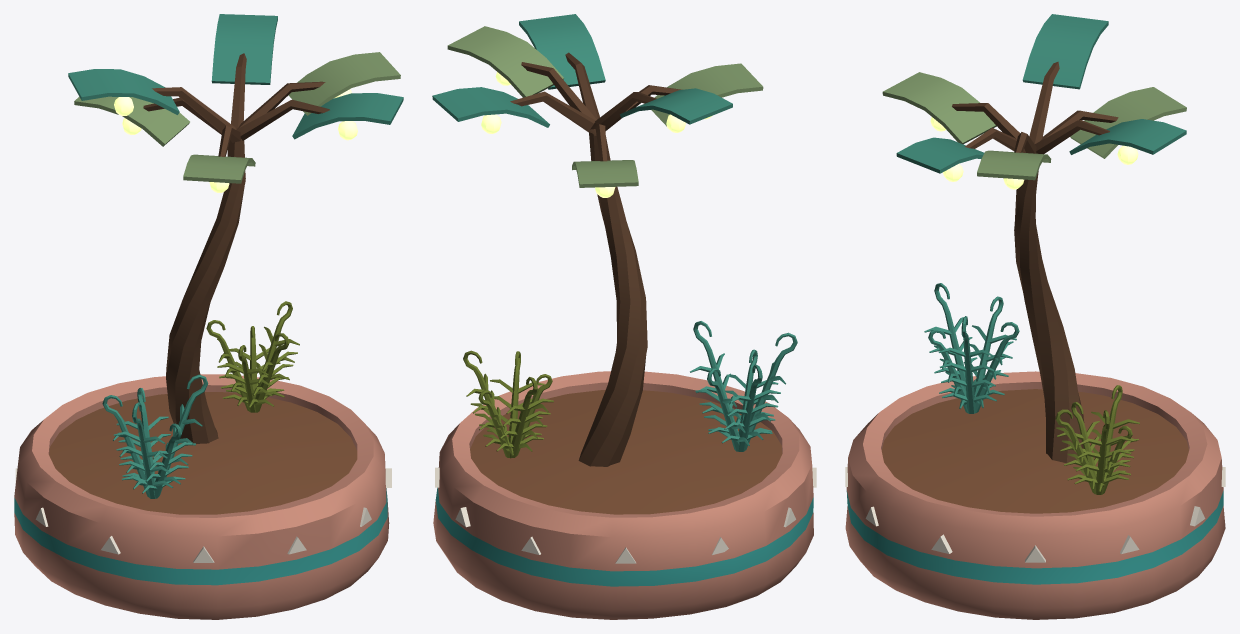
File: deco_planter_bed_round.fbx
The picture shows the model from 3 angles, left to right: view 1: azimuth 30°, elevation 25°; view 2: azimuth 150°, elevation 25°; view 3: azimuth 270°, elevation 25°; orthographic projection.
Visible parts, largest first — view 1: PlanterBed_Round_Bed, PlanterBed_Round_Tree, PlanterBed_Round_Soil, PlanterBed_Round_Ferns; view 2: PlanterBed_Round_Bed, PlanterBed_Round_Tree, PlanterBed_Round_Soil, PlanterBed_Round_Ferns; view 3: PlanterBed_Round_Bed, PlanterBed_Round_Tree, PlanterBed_Round_Soil, PlanterBed_Round_Ferns.
Part boxes in pixels (x1,y1,x2,y2): PlanterBed_Round_Bed: (14, 374, 391, 619); PlanterBed_Round_Tree: (68, 14, 403, 443); PlanterBed_Round_Soil: (49, 392, 357, 514); PlanterBed_Round_Ferns: (102, 301, 299, 498); PlanterBed_Round_Bed: (433, 371, 816, 619); PlanterBed_Round_Tree: (432, 14, 763, 466); PlanterBed_Round_Soil: (470, 390, 782, 514); PlanterBed_Round_Ferns: (463, 321, 797, 458); PlanterBed_Round_Bed: (845, 371, 1225, 619); PlanterBed_Round_Tree: (882, 14, 1186, 463); PlanterBed_Round_Soil: (881, 389, 1188, 513); PlanterBed_Round_Ferns: (924, 283, 1139, 494).
Bounding box in the file's own units: 187 × 248 × 180.
